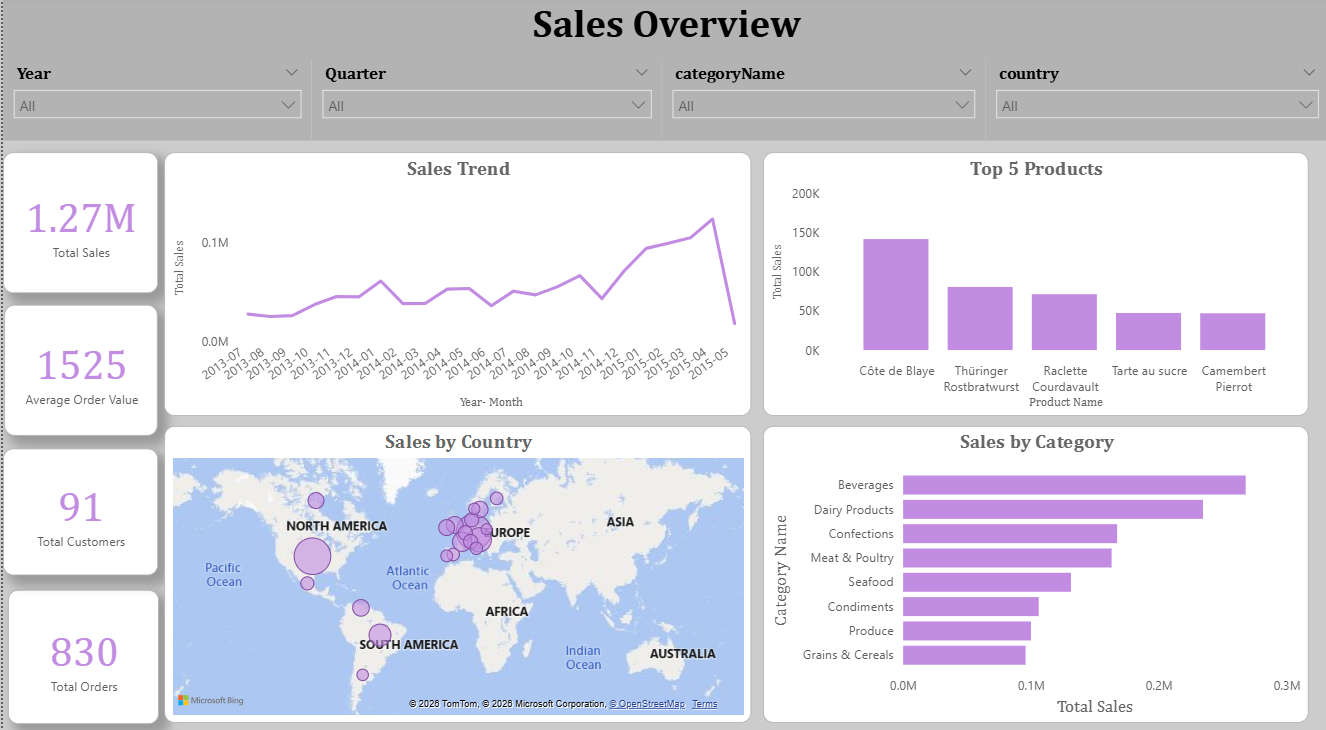

The dashboard page shown, as its layout file describes it:
{"tool":"powerbi","page":{"name":"Sales Overview","canvas":[1280,720],"ordinal":0},"visuals":[{"type":"textbox","box":[0,0,1280.5,60.6],"z":0},{"type":"card","fields":{"Values":["_Measures.Total Sales"]},"box":[0,150.8,149.5,136.3],"z":1000},{"type":"card","fields":{"Values":["_Measures.Total Orders"]},"box":[1.2,572.9,149.5,129],"z":2000},{"type":"card","fields":{"Values":["_Measures.Average Order Value"]},"box":[1.2,297.9,148.3,126.6],"z":3000},{"type":"card","fields":{"Values":["_Measures.Total Customers"]},"box":[0,436.3,149.6,122.4],"z":4000},{"type":"lineChart","title":"Sales Trend","fields":{"Y":["_Measures.Total Sales"],"Category":["Calendar.Year Month"]},"box":[155.7,150.8,566.1,254.6],"z":5000},{"type":"clusteredBarChart","title":"Sales by Category","fields":{"Y":["_Measures.Total Sales"],"Category":["categories.categoryName"]},"box":[733,415.3,526.5,286.8],"z":6000},{"type":"columnChart","title":"Top 5 Products","fields":{"Category":["products.productName"],"Y":["_Measures.Total Sales"]},"box":[733,150.8,526.5,254.6],"z":7000},{"type":"map","title":"Sales by Country","fields":{"Category":["customers.country"],"Size":["_Measures.Total Sales"]},"box":[155.7,415.3,566.1,286.8],"z":8000},{"type":"slicer","fields":{"Values":["customers.country"]},"box":[947.9,60.3,331.7,79.6],"z":9000},{"type":"slicer","fields":{"Values":["categories.categoryName"]},"box":[635.6,60.3,312.4,79.6],"z":10000},{"type":"slicer","fields":{"Values":["Calendar.Quarter"]},"box":[297.9,60.3,337.7,79.6],"z":11000},{"type":"slicer","fields":{"Values":["Calendar.Year"]},"box":[0,60.3,297.9,79.6],"z":12000}]}

Visuals, with their boxes in screenshot pixels (x1, y1, x2, y2), scaled from the page's 1280x720 canvas onto the 1326x730 screenshot:
textbox: <region>0, 0, 1325, 61</region>
card - _Measures.Total Sales: <region>0, 153, 155, 291</region>
card - _Measures.Total Orders: <region>1, 581, 156, 712</region>
card - _Measures.Average Order Value: <region>1, 302, 155, 430</region>
card - _Measures.Total Customers: <region>0, 442, 155, 566</region>
"Sales Trend" lineChart: <region>161, 153, 748, 411</region>
"Sales by Category" clusteredBarChart: <region>759, 421, 1305, 712</region>
"Top 5 Products" columnChart: <region>759, 153, 1305, 411</region>
"Sales by Country" map: <region>161, 421, 748, 712</region>
slicer - customers.country: <region>982, 61, 1325, 142</region>
slicer - categories.categoryName: <region>658, 61, 982, 142</region>
slicer - Calendar.Quarter: <region>309, 61, 658, 142</region>
slicer - Calendar.Year: <region>0, 61, 309, 142</region>
